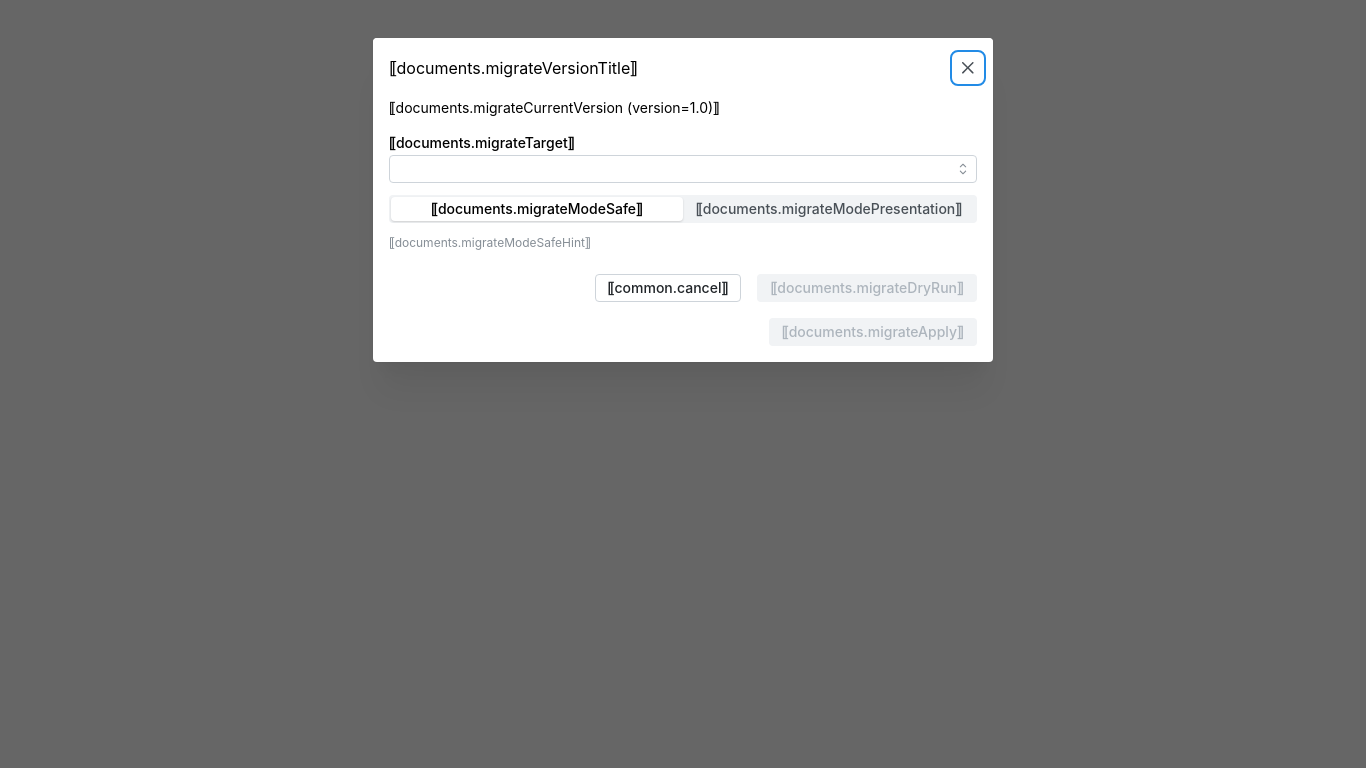
Test: VersionMigrationDialog: ручні значення замість формул, що не переїдуть (D-461) › null (таких немає) — рядка-попередження немає
Click the field labelled "⟦documents.migrateTarget⟧" at (683, 170), box left=389, top=156, right=977, bottom=184
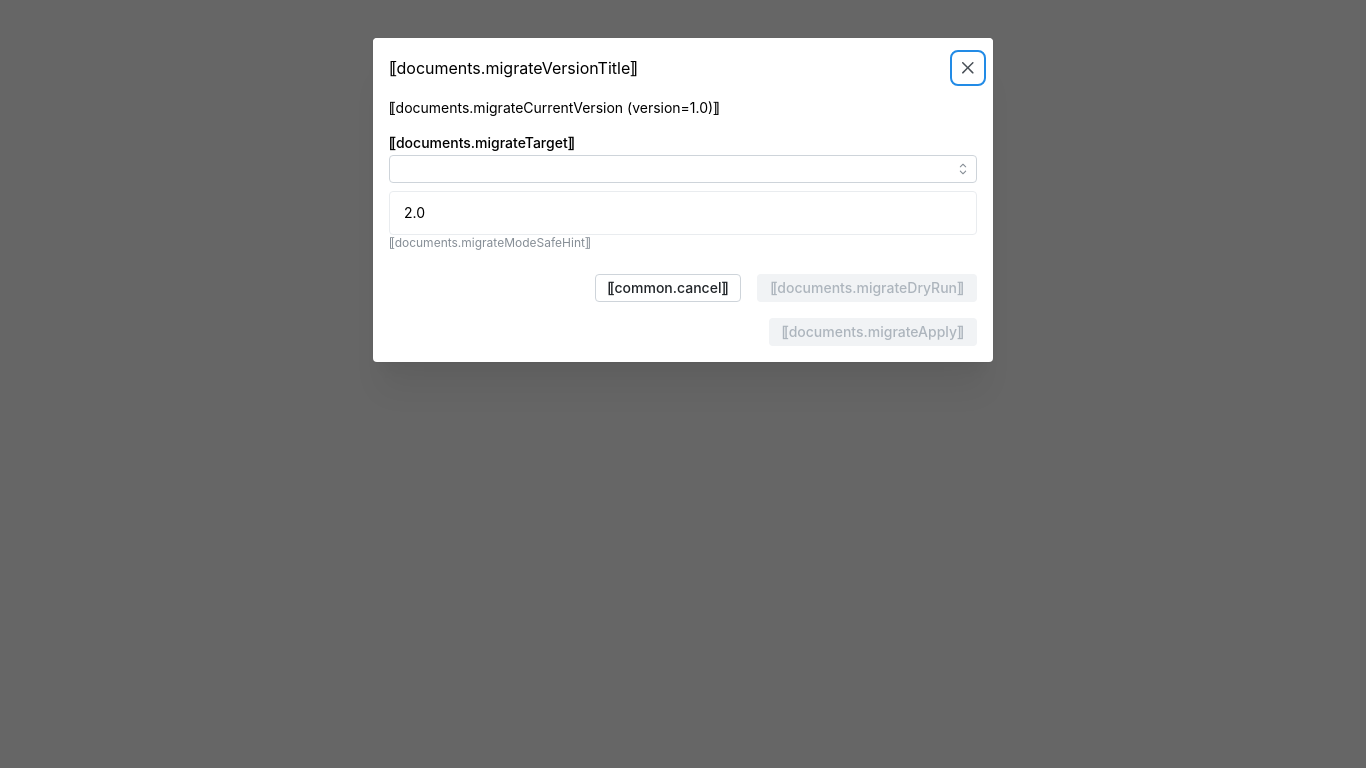
Click the option "2.0" at (415, 213), box left=404, top=204, right=425, bottom=222
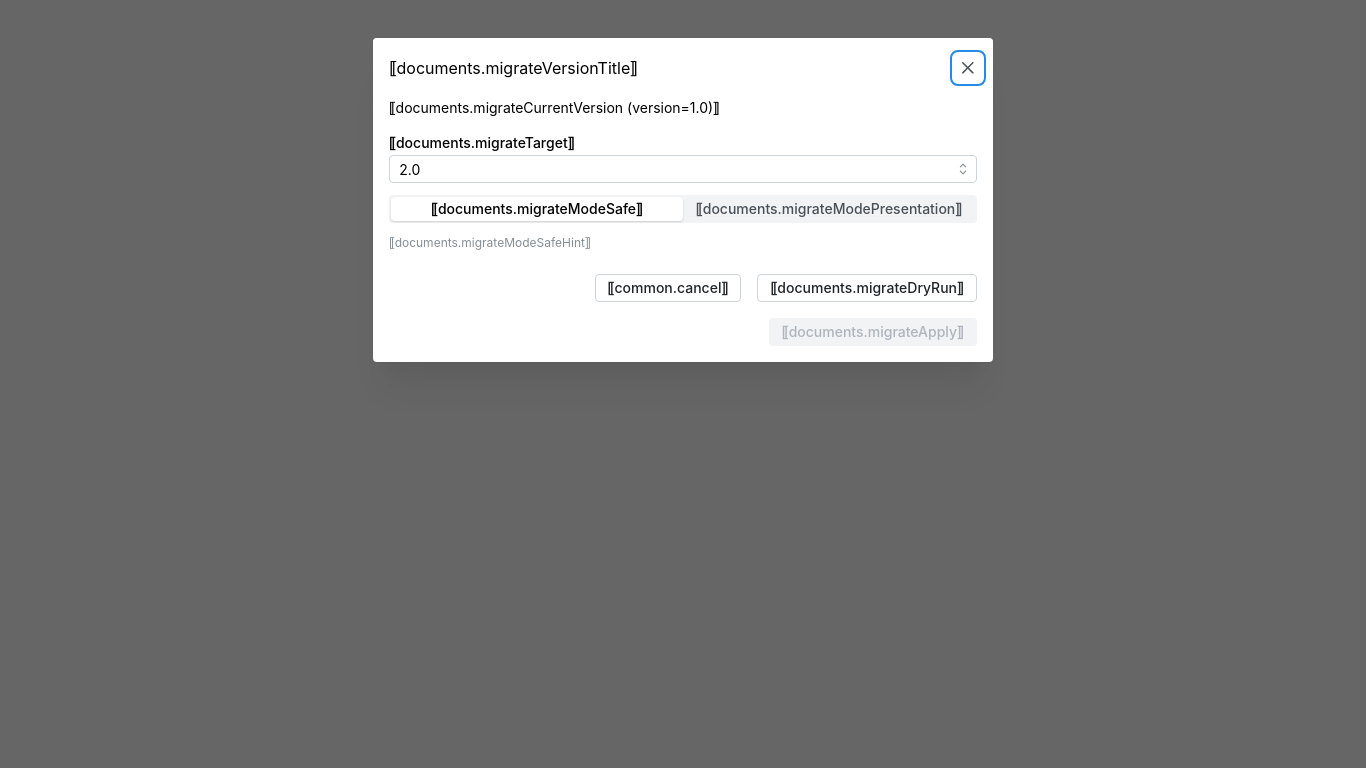
Click the button with test id "migrate-dry-run" at (867, 288), box left=757, top=274, right=977, bottom=302
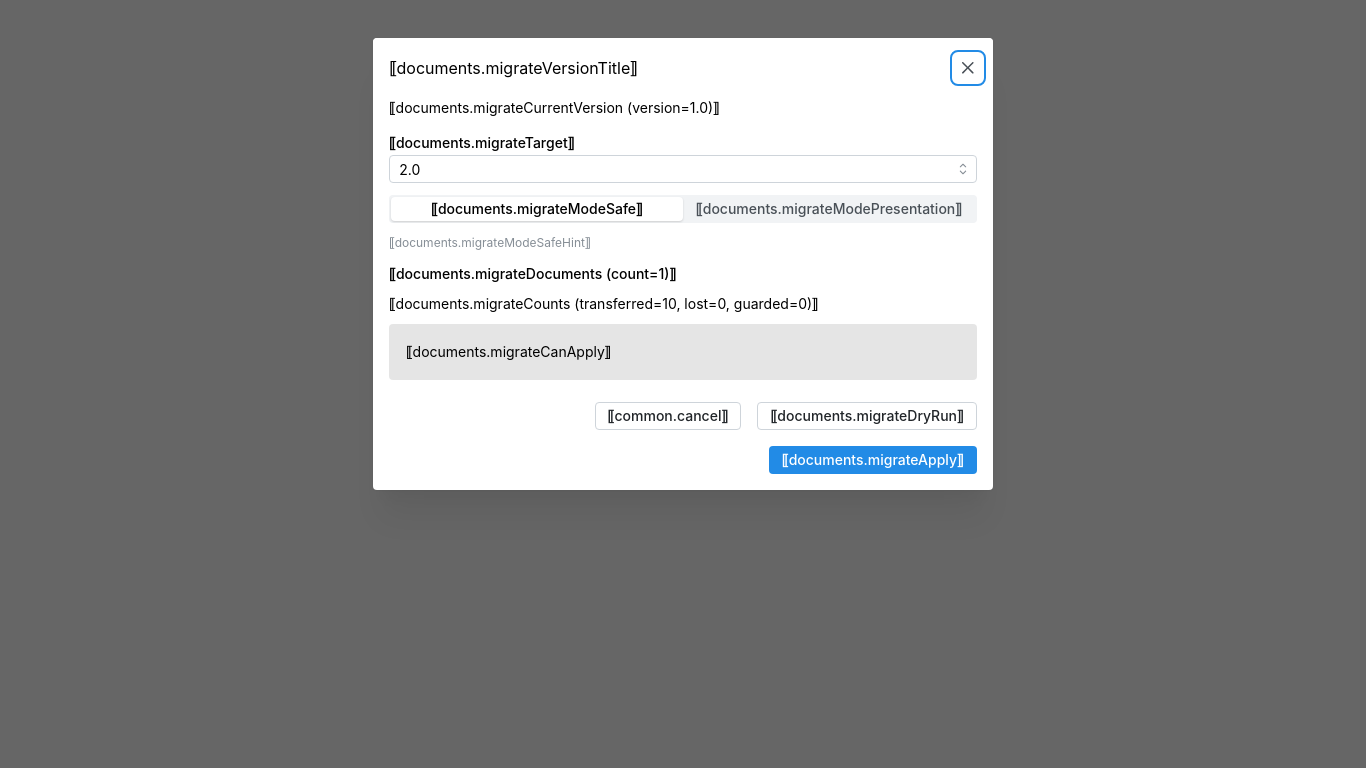
Now the text "⟦documents.migrateCanApply⟧" is shown, box left=406, top=344, right=611, bottom=361
